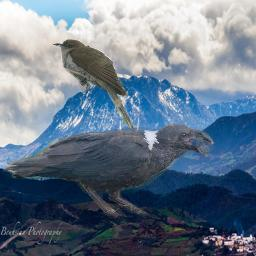Crow: (2, 121, 215, 220)
Cuckoo: (53, 39, 135, 132)
